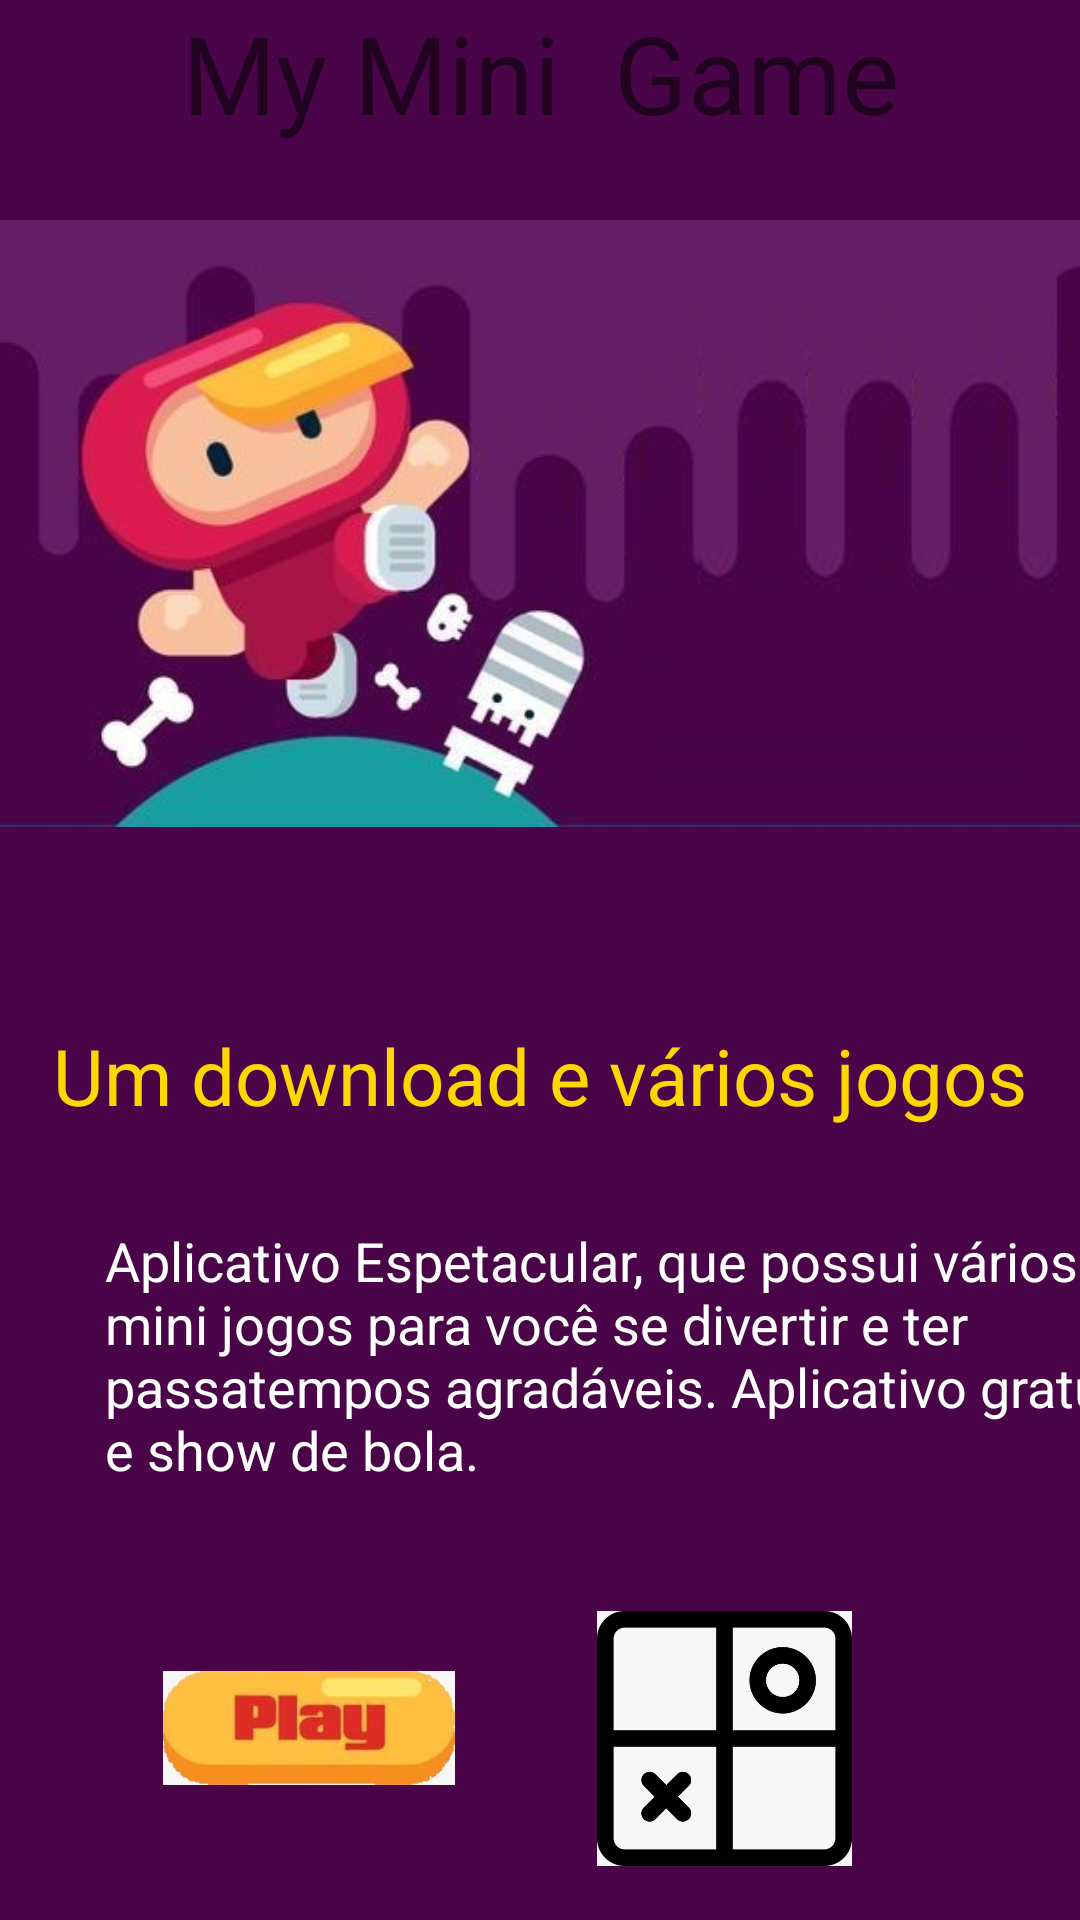

Named icons in this screenshot (1080×1920) and their centers, (x,y):
jvelha: (724,1738)
